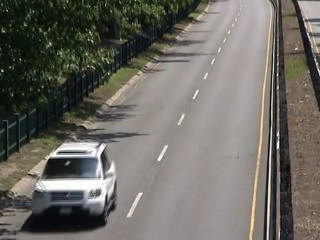car: (24, 139, 121, 231)
